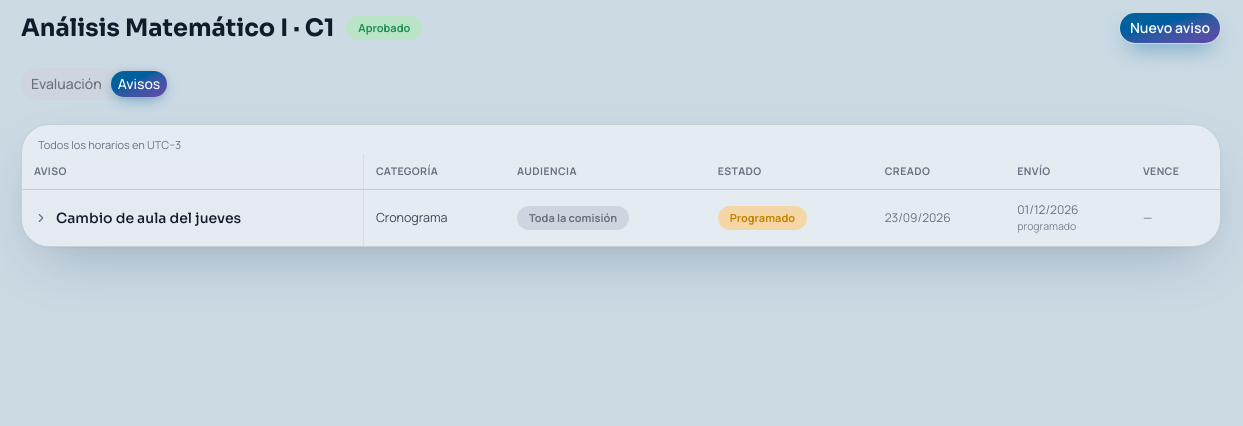
Test: DocenteComisionDetalle › un aviso programado avisa que el segmento se calcula al enviarlo
Click the text "Cambio de aula del jueves".
click(149, 218)  # box x1=56 y1=208 x2=241 y2=228
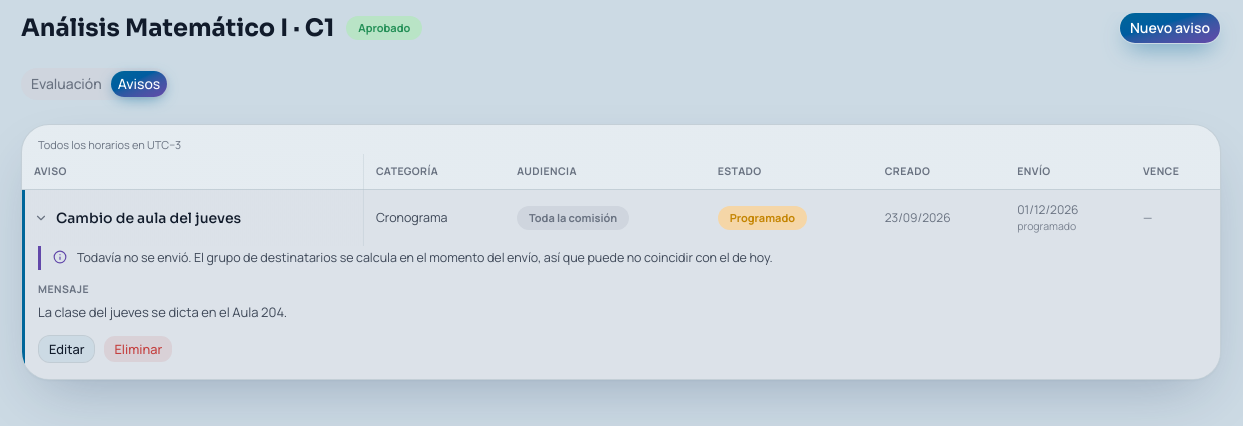
Expected: the text "se calcula en el momento del envío" is shown, x1=77 y1=249 x2=773 y2=266
